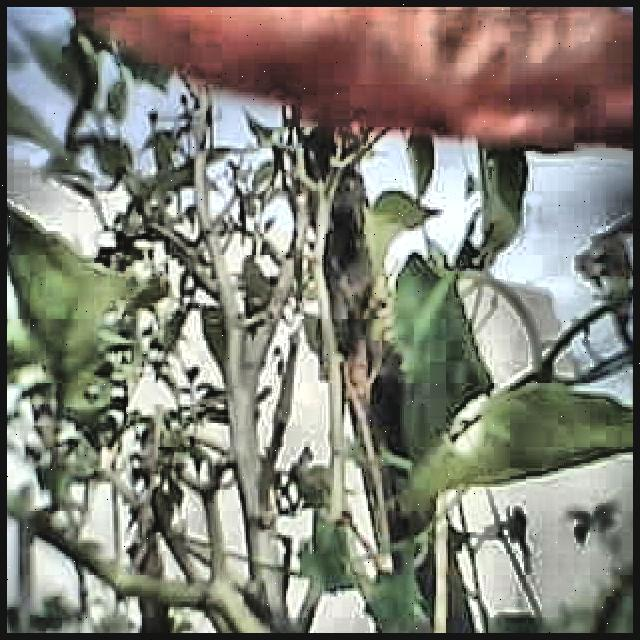Cabai: (84, 7, 633, 159)
